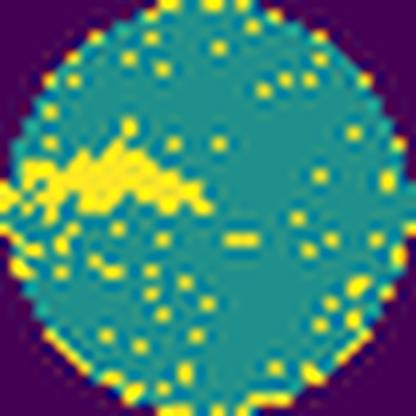Loc: (18, 138, 218, 224)
